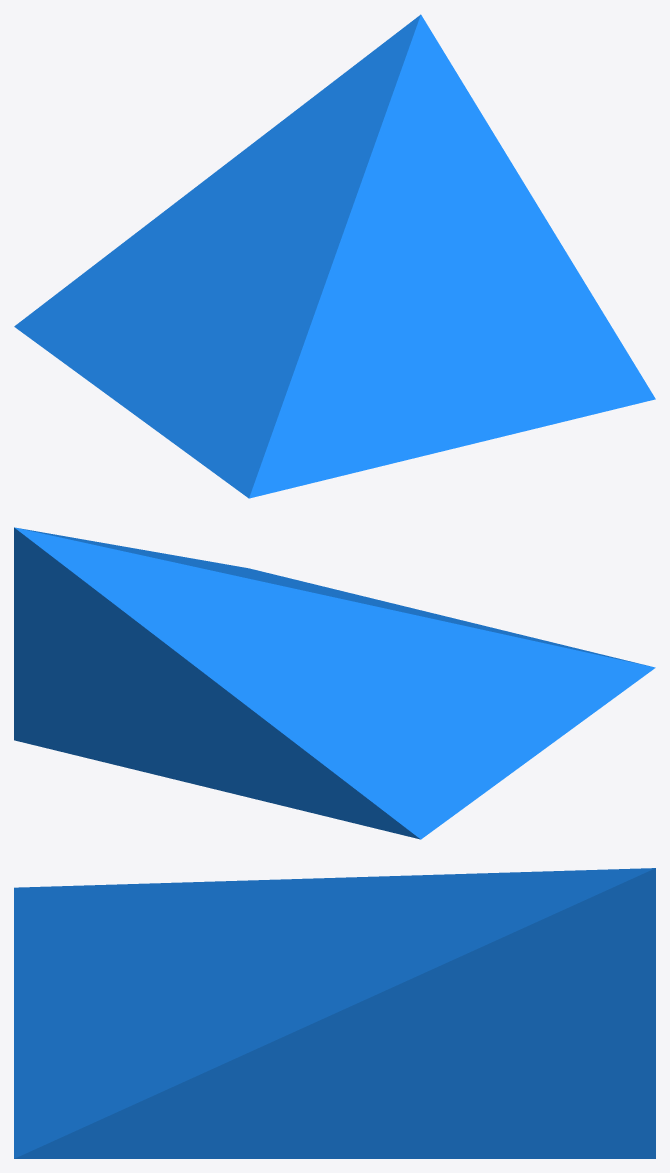
Rendered from Proto_Building_Block_Roof_Corner_Outer_01.fbx.
3 renders of one model, top to bottom at view 1: azimuth 30°, elevation 25°; view 2: azimuth 150°, elevation 25°; view 3: azimuth 270°, elevation 25°, orthographic. The views are drawn at different scales.
Parts seen in each view (by area): view 1: Proto_Building_Block_Roof_Corner_Outer_01; view 2: Proto_Building_Block_Roof_Corner_Outer_01; view 3: Proto_Building_Block_Roof_Corner_Outer_01.
Boxes of the visible parts, <box> form: Proto_Building_Block_Roof_Corner_Outer_01: <box>14,14,655,498</box>; Proto_Building_Block_Roof_Corner_Outer_01: <box>14,527,655,839</box>; Proto_Building_Block_Roof_Corner_Outer_01: <box>14,868,655,1158</box>.
Bounding box in the file's own units: 2 × 1 × 2.
